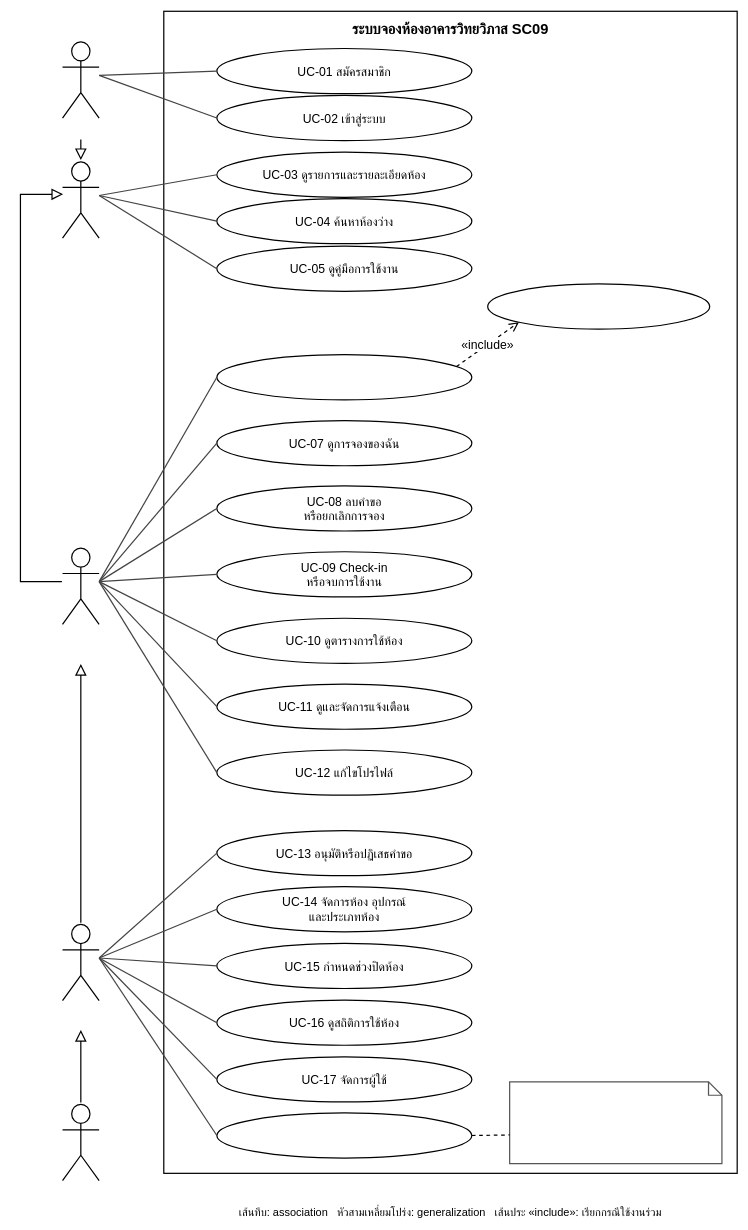
Some shapes in this 748 by 1230 pixel diagram are drawn without their labels. Each missing label, with the box of its shape:
Scheduler ภายในระบบ ทำ UC-18 อัตโนมัติทุก 1 นาที ตามเงื่อนไขเวลาและสถานะ: (509, 1081, 722, 1164)
UC-06 จองห้อง: (216, 354, 472, 400)
UC-18 บันทึกไม่มาใช้ห้อง หรือปิดการจอง: (216, 1112, 472, 1158)
ตรวจสอบกฎการจอง: (487, 283, 710, 329)
ผู้ดูแลระบบ: (62, 1103, 99, 1181)
ผู้เยี่ยมชม: (62, 41, 99, 118)
ผู้ใช้งานทั่วไป {abstract}: (62, 161, 99, 239)
สมาชิกที่เข้าสู่ระบบ (ทุกบทบาท): (62, 547, 99, 625)
เจ้าหน้าที่: (62, 924, 99, 1001)
